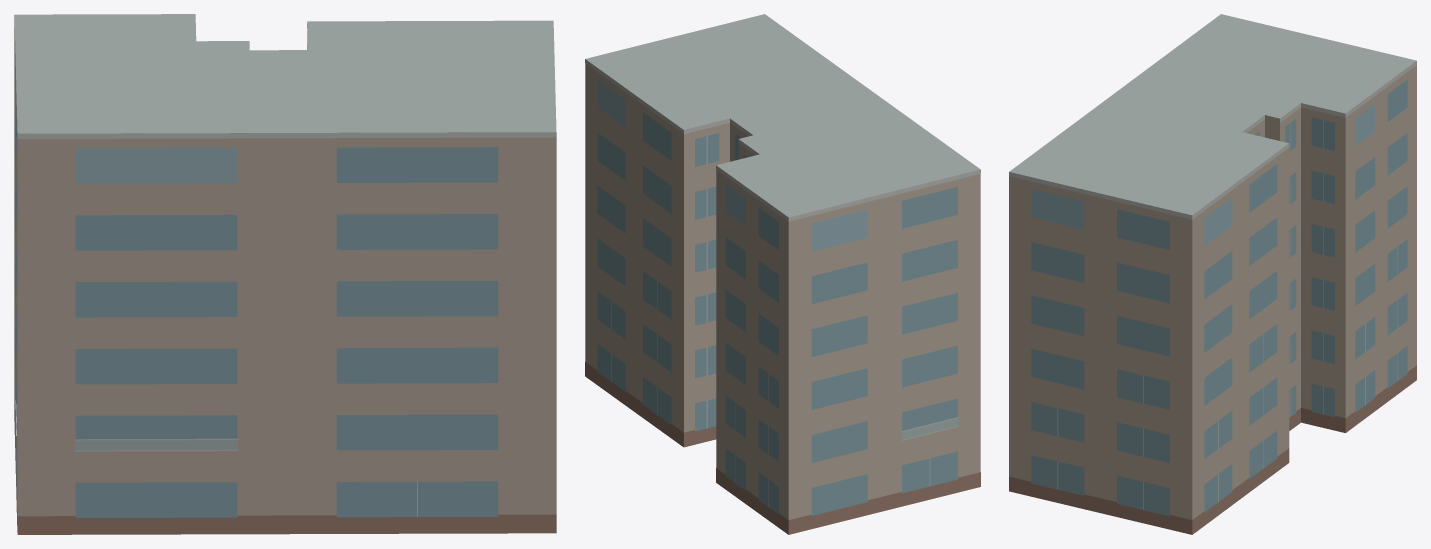
Rendered from survey-upis-32665448.glb.
3 renders of one model, left to right at view 1: azimuth 30°, elevation 25°; view 2: azimuth 150°, elevation 25°; view 3: azimuth 270°, elevation 25°, orthographic. The views are drawn at different scales.
Parts seen in each view (by area): view 1: survey-upis-32665448.tmp; view 2: survey-upis-32665448.tmp; view 3: survey-upis-32665448.tmp.
Part boxes in pixels (left/top/right/bottom): survey-upis-32665448.tmp: left=14, top=14, right=556, bottom=534; survey-upis-32665448.tmp: left=585, top=14, right=980, bottom=534; survey-upis-32665448.tmp: left=1009, top=14, right=1416, bottom=534.
Size of the model in its own units: 24.74 by 18.3 by 21.18.
